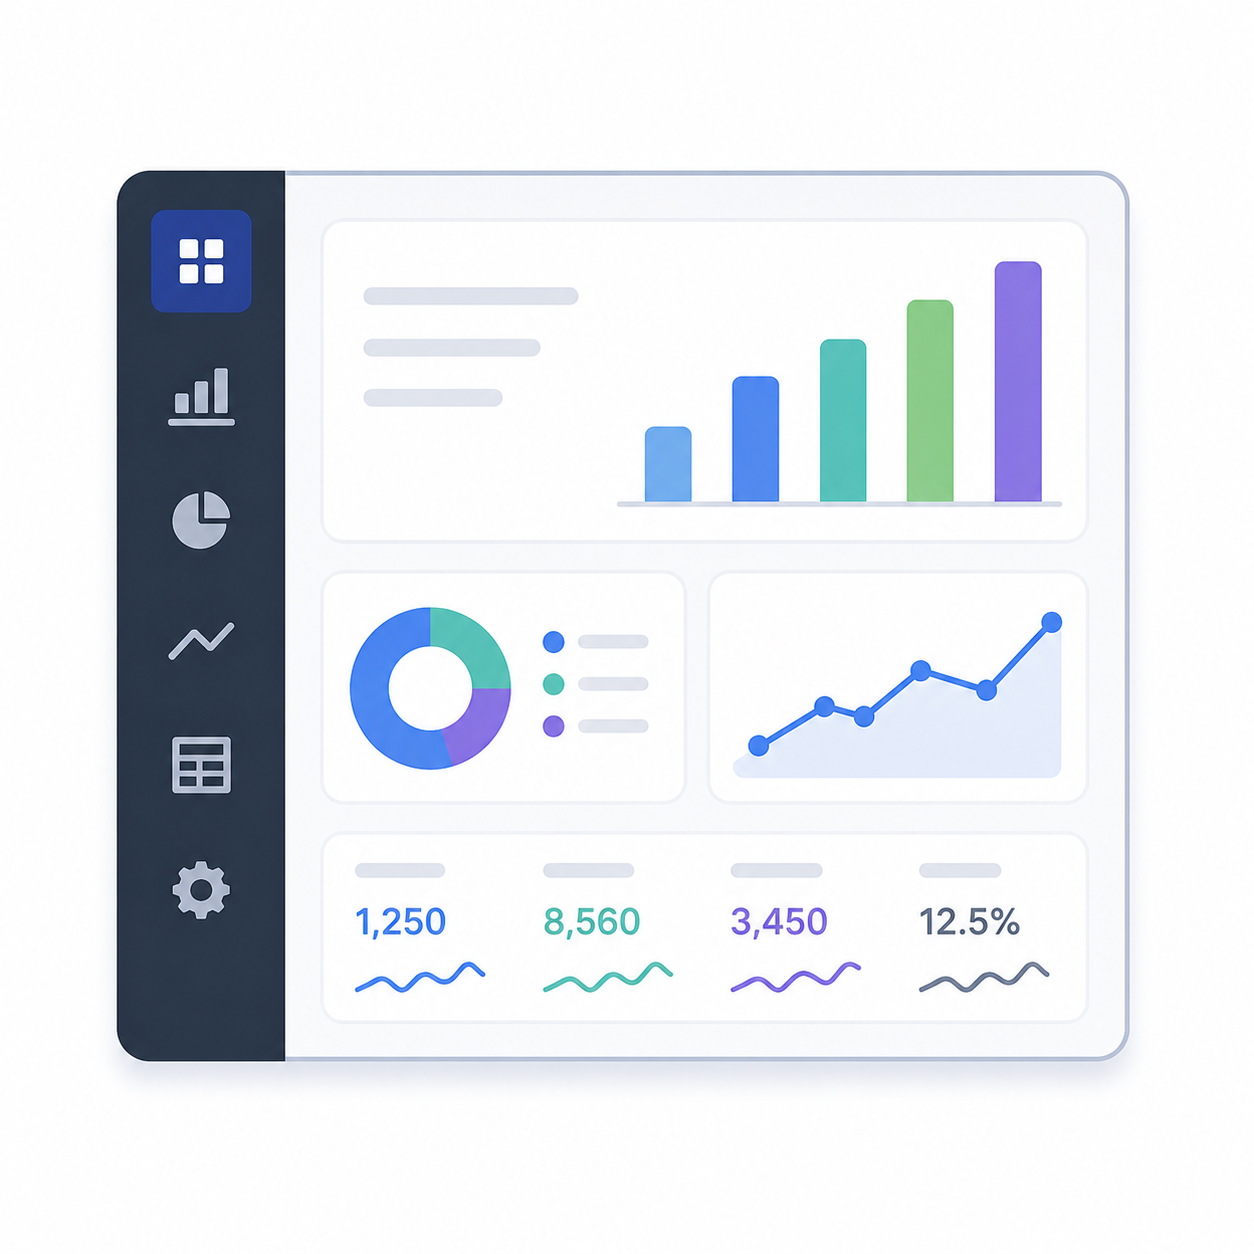

The dashboard page shown, as its layout file describes it:
{"tool":"powerbi","page":{"name":"Page 1","canvas":[1280,720],"ordinal":0},"visuals":[{"type":"cardVisual","fields":{"Data":["Sales.Total_Quantity"]},"box":[864.9,111.2,169.8,98],"z":0},{"type":"cardVisual","fields":{"Data":["Sales.Total_Order"]},"box":[598.5,111.2,169.8,98],"z":1000},{"type":"cardVisual","fields":{"Data":["Sales.Total_Revenue"]},"box":[32.2,111.2,162.4,98],"z":2000},{"type":"cardVisual","fields":{"Data":["Sales.Total_Profit"]},"box":[316.1,111.2,180,98],"z":3000},{"type":"cardVisual","fields":{"Data":["Sales.AOV"]},"box":[1134.1,111.2,133.2,98],"z":4000},{"type":"barChart","title":"Most Popular Product by Total Revenue","fields":{"Y":["Sales.Total_Revenue"],"Category":["Products.SubCategory"]},"box":[425.9,223.9,382,225.4],"z":5000},{"type":"clusteredBarChart","title":"Most Popular Product by Total Quantity","fields":{"Y":["Sales.Total_Quantity"],"Category":["Products.SubCategory"]},"box":[5.9,223.9,401,225.4],"z":6000},{"type":"donutChart","title":"Revenue by Country","fields":{"Category":["Territories.Country"],"Y":["Sales.Total_Revenue"]},"box":[807.8,223.9,459.5,225.4],"z":8000},{"type":"shape","box":[0,7.3,1280,103.9],"z":9000},{"type":"textbox","box":[242.9,19,791.7,77.6],"z":10000},{"type":"tableEx","fields":{"Values":["Products.SubCategory","Products.ProductName","Sales.Total_Quantity","Sales.Total_Revenue"]},"box":[630.7,466.8,636.6,253.2],"z":11000},{"type":"slicer","fields":{"Values":["Customers.Gender"]},"box":[1090.2,32.2,165.4,71.7],"z":11001},{"type":"lineChart","fields":{"Y":["Sales.Total_Revenue"],"Category":["Sales.OrderDate.Variation.Date Hierarchy.Year","Sales.OrderDate.Variation.Date Hierarchy.Month"]},"box":[5.9,466.8,592.7,253.2],"z":11002}]}

Visuals, with their boxes on the page's 1280x720 design canvas (x1, y1, x2, y2). These are canvas units, not pixel positions in the 1254x1254 screenshot, which may show the page scaled, cropped or inside an application window:
cardVisual - Sales.Total_Quantity: 865,111,1035,209
cardVisual - Sales.Total_Order: 598,111,768,209
cardVisual - Sales.Total_Revenue: 32,111,195,209
cardVisual - Sales.Total_Profit: 316,111,496,209
cardVisual - Sales.AOV: 1134,111,1267,209
"Most Popular Product by Total Revenue" barChart: 426,224,808,449
"Most Popular Product by Total Quantity" clusteredBarChart: 6,224,407,449
"Revenue by Country" donutChart: 808,224,1267,449
shape: 0,7,1280,111
textbox: 243,19,1035,97
tableEx - Products.SubCategory x Products.ProductName: 631,467,1267,720
slicer - Customers.Gender: 1090,32,1256,104
lineChart - Sales.Total_Revenue x Sales.OrderDate.Variation.Date Hierarchy.Year: 6,467,599,720
